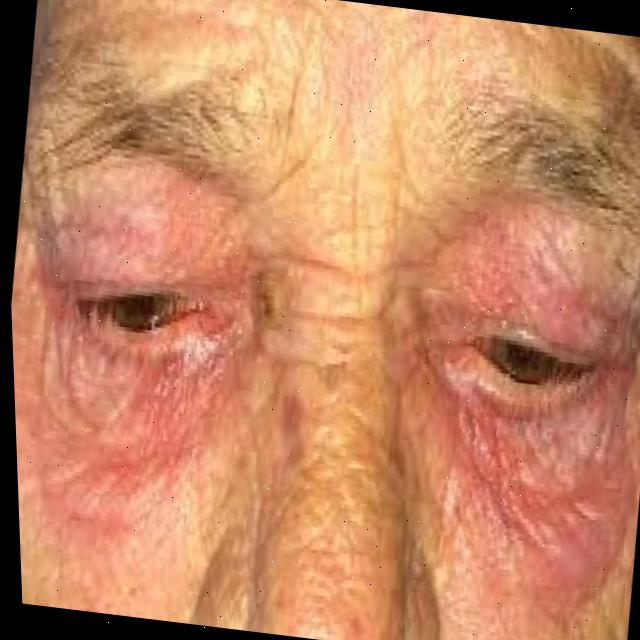Rosacea: (6, 153, 279, 570), (379, 190, 640, 621)
